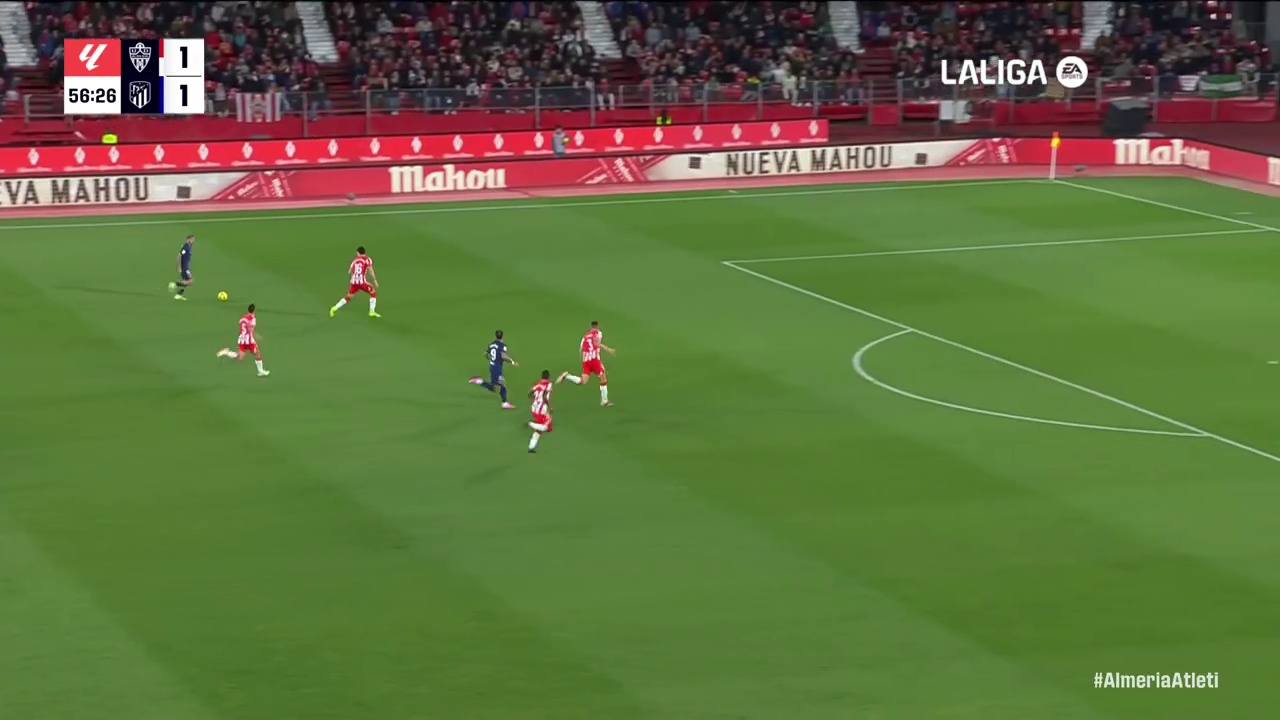ball: (161, 300, 192, 331)
